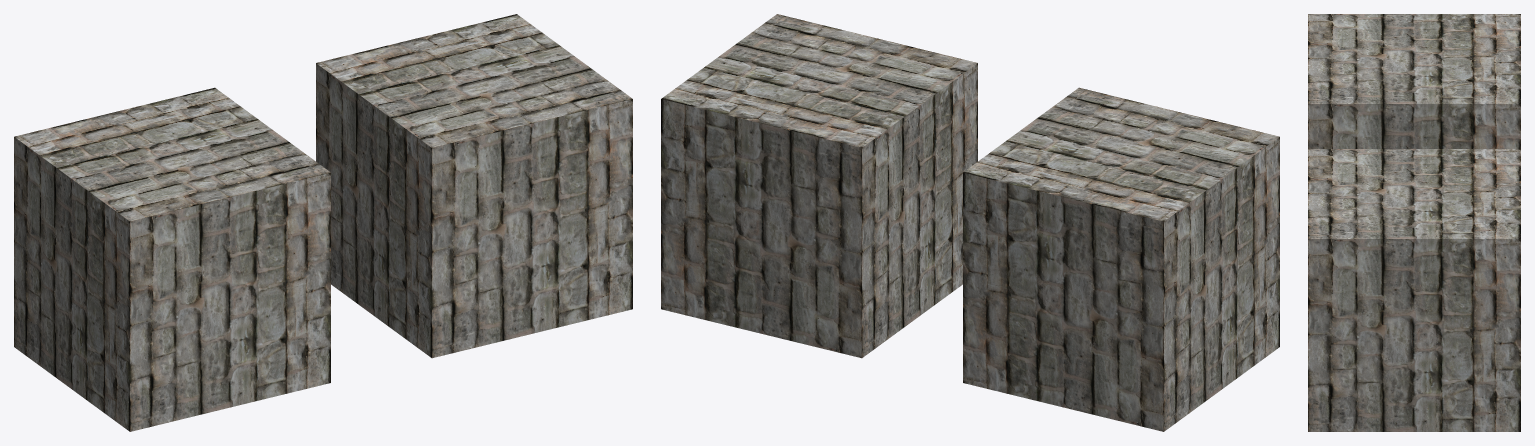
The model's file is unit_cube.dae.
The picture shows the model from 3 angles, left to right: view 1: azimuth 30°, elevation 25°; view 2: azimuth 150°, elevation 25°; view 3: azimuth 270°, elevation 25°; orthographic projection. The views are drawn at different scales.
Visible parts, largest first — view 1: Cube, Cube_001; view 2: Cube, Cube_001; view 3: Cube_001, Cube.
Boxes of the visible parts, x1,y1,x2,y2 form: Cube: (14,87,330,431); Cube_001: (316,14,632,358); Cube: (963,87,1279,431); Cube_001: (661,14,977,358); Cube_001: (1308,149,1520,431); Cube: (1308,14,1520,148).
Bounding box in the file's own units: 5 × 2 × 2.
